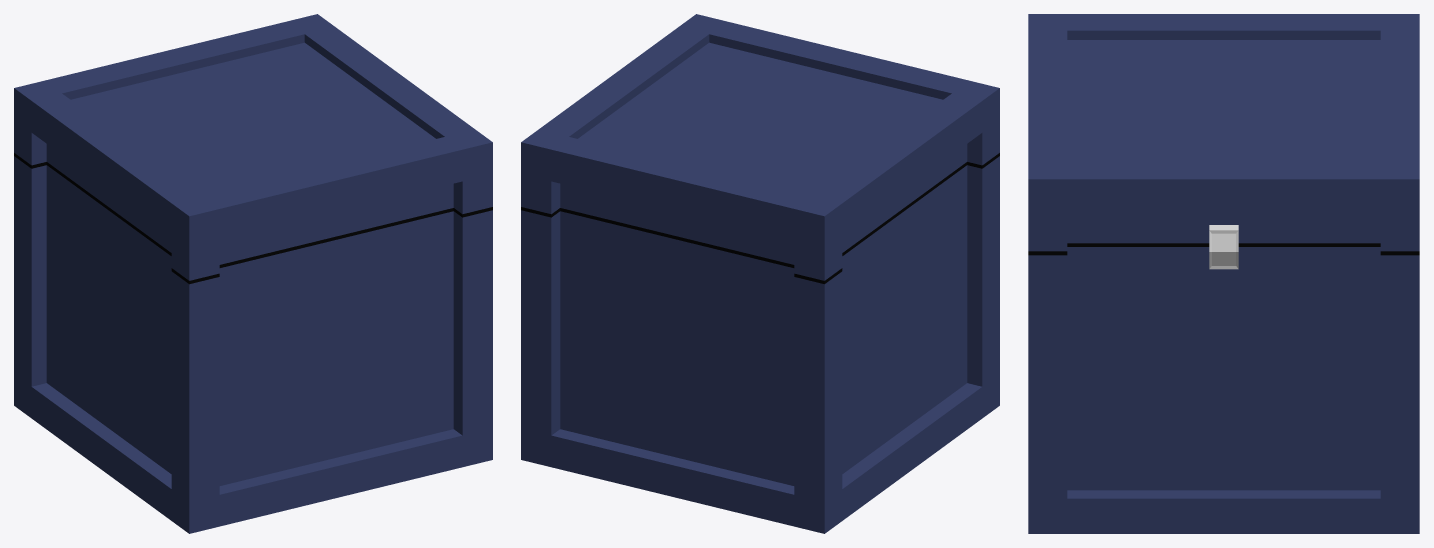
File: ItemBox_Blue.fbx
3 renders of one model, left to right at view 1: azimuth 30°, elevation 25°; view 2: azimuth 150°, elevation 25°; view 3: azimuth 270°, elevation 25°, orthographic. The views are drawn at different scales.
Visible parts, largest first — view 1: Cube; view 2: Cube; view 3: Cube, Cube.001.
Part boxes in pixels (box(x1,y1,x2,y2)): Cube: box(14, 14, 492, 533); Cube: box(521, 14, 999, 533); Cube: box(1028, 14, 1419, 533); Cube.001: box(1209, 225, 1238, 269).
Bounding box in the file's own units: 200 × 200 × 200.
